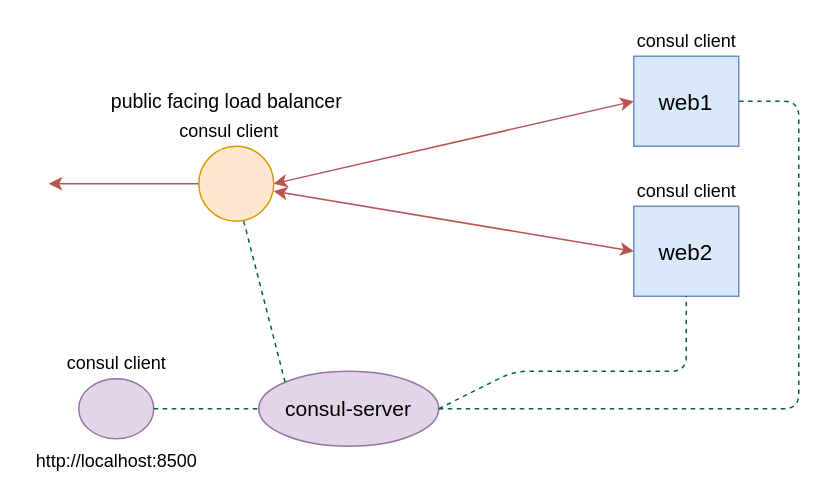
Some shapes in this 827 by 501 pixel diagram are drawn without their labels. The centre of each missing label's shape, as x and y in pixels:
"lb" belongs at (x=235, y=183).
"ui" belongs at (x=115, y=408).
